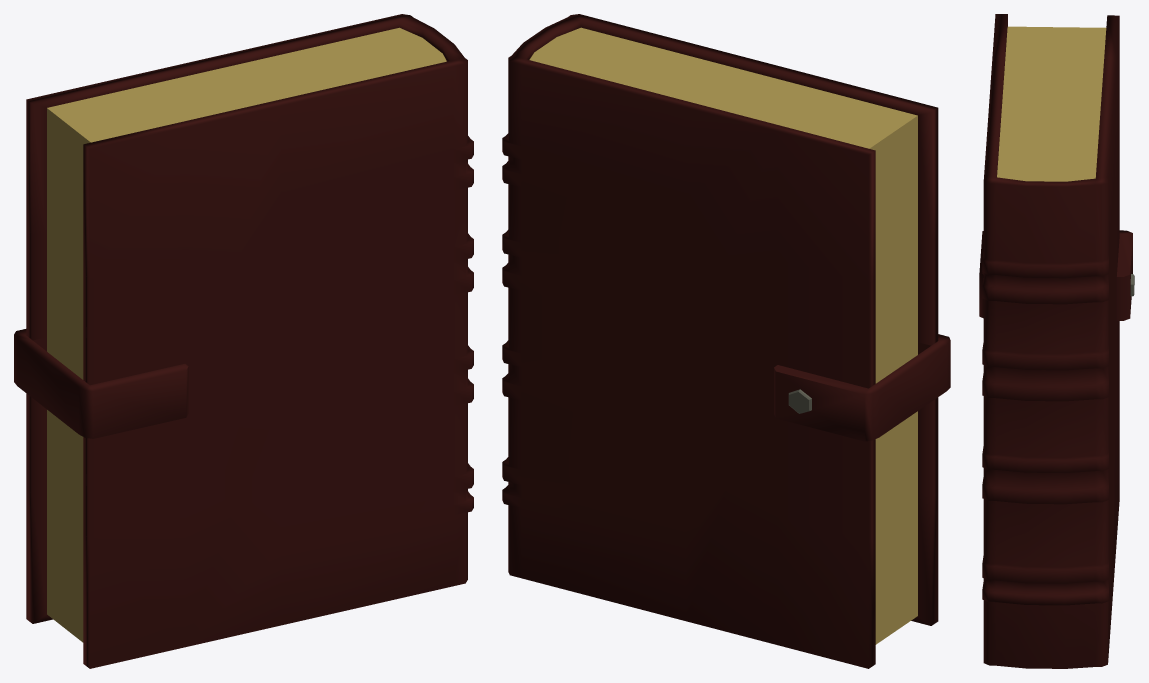
Rendered from IM_LivreCode_01.fbx.
3 views of the same model, side by side, from view 1: azimuth 30°, elevation 25°; view 2: azimuth 150°, elevation 25°; view 3: azimuth 270°, elevation 25° (orthographic). The views are drawn at different scales.
Visible parts, largest first — view 1: pCube49; view 2: pCube49; view 3: pCube49.
Boxes of the visible parts, box(x1,y1,x2,y2) form: pCube49: box(14, 14, 473, 668); pCube49: box(502, 14, 950, 668); pCube49: box(979, 14, 1134, 668).
Size of the model in its own units: 41.44 by 51.73 by 15.08.
